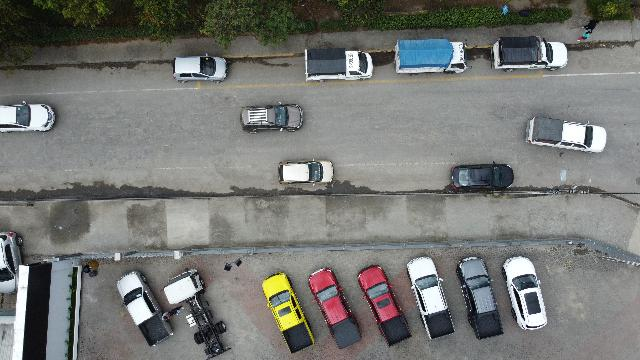Vehiculo: (357, 265, 411, 347), (308, 267, 362, 348), (262, 272, 314, 354), (117, 271, 173, 347), (407, 256, 455, 340), (456, 256, 504, 340), (502, 256, 546, 330), (526, 116, 606, 154), (394, 38, 470, 74), (490, 36, 568, 70), (304, 48, 372, 82), (240, 103, 304, 133), (451, 162, 514, 192), (0, 102, 56, 132), (161, 268, 205, 304), (172, 55, 228, 83), (278, 159, 334, 185), (1, 231, 23, 294)
